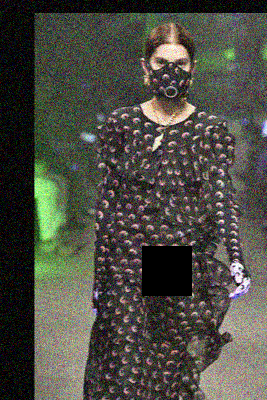with_mask: (146, 52, 191, 99)
